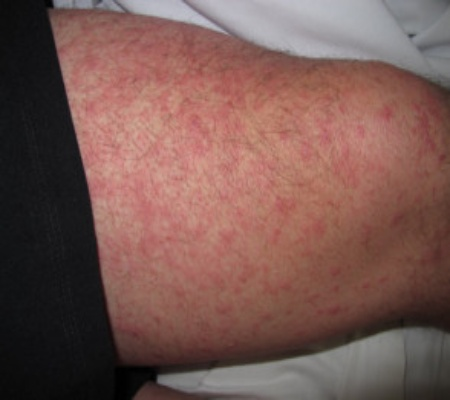SJS-TEN: (57, 0, 450, 374)
